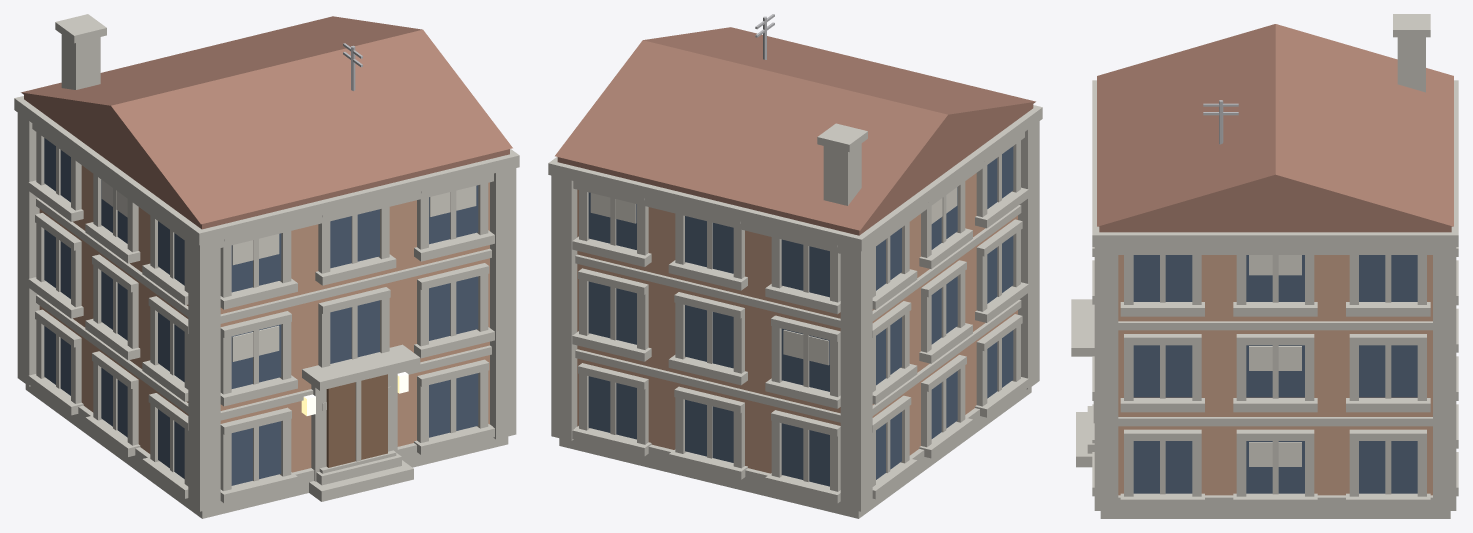
File: bld_2_0.glb
3 views of the same model, side by side, from view 1: azimuth 30°, elevation 25°; view 2: azimuth 150°, elevation 25°; view 3: azimuth 270°, elevation 25° (orthographic). The views are drawn at different scales.
Visible parts, largest first — view 1: trim, rf, win, w, door, blind; view 2: trim, rf, win, w, blind; view 3: trim, rf, w, win, blind, ac.
Part boxes in pixels (left/top/right/bottom): trim: left=14, top=14, right=519, bottom=518; rf: left=21, top=16, right=512, bottom=229; win: left=44, top=138, right=478, bottom=485; w: left=39, top=165, right=489, bottom=472; door: left=326, top=374, right=387, bottom=467; blind: left=101, top=180, right=476, bottom=361; trim: left=548, top=105, right=1042, bottom=518; rf: left=555, top=27, right=1035, bottom=235; win: left=588, top=146, right=1013, bottom=486; w: left=577, top=173, right=1017, bottom=473; blind: left=590, top=187, right=957, bottom=365; trim: left=1071, top=14, right=1458, bottom=518; rf: left=1097, top=24, right=1453, bottom=232; w: left=1118, top=255, right=1432, bottom=495; win: left=1133, top=255, right=1417, bottom=493; blind: left=1249, top=255, right=1301, bottom=466; ac: left=1203, top=100, right=1238, bottom=144.
Bounding box in the file's own units: 3.12 × 3.5 × 3.3.
